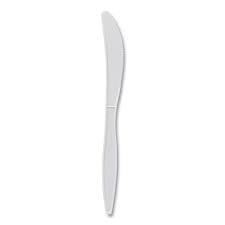Knife: (100, 10, 125, 216)
